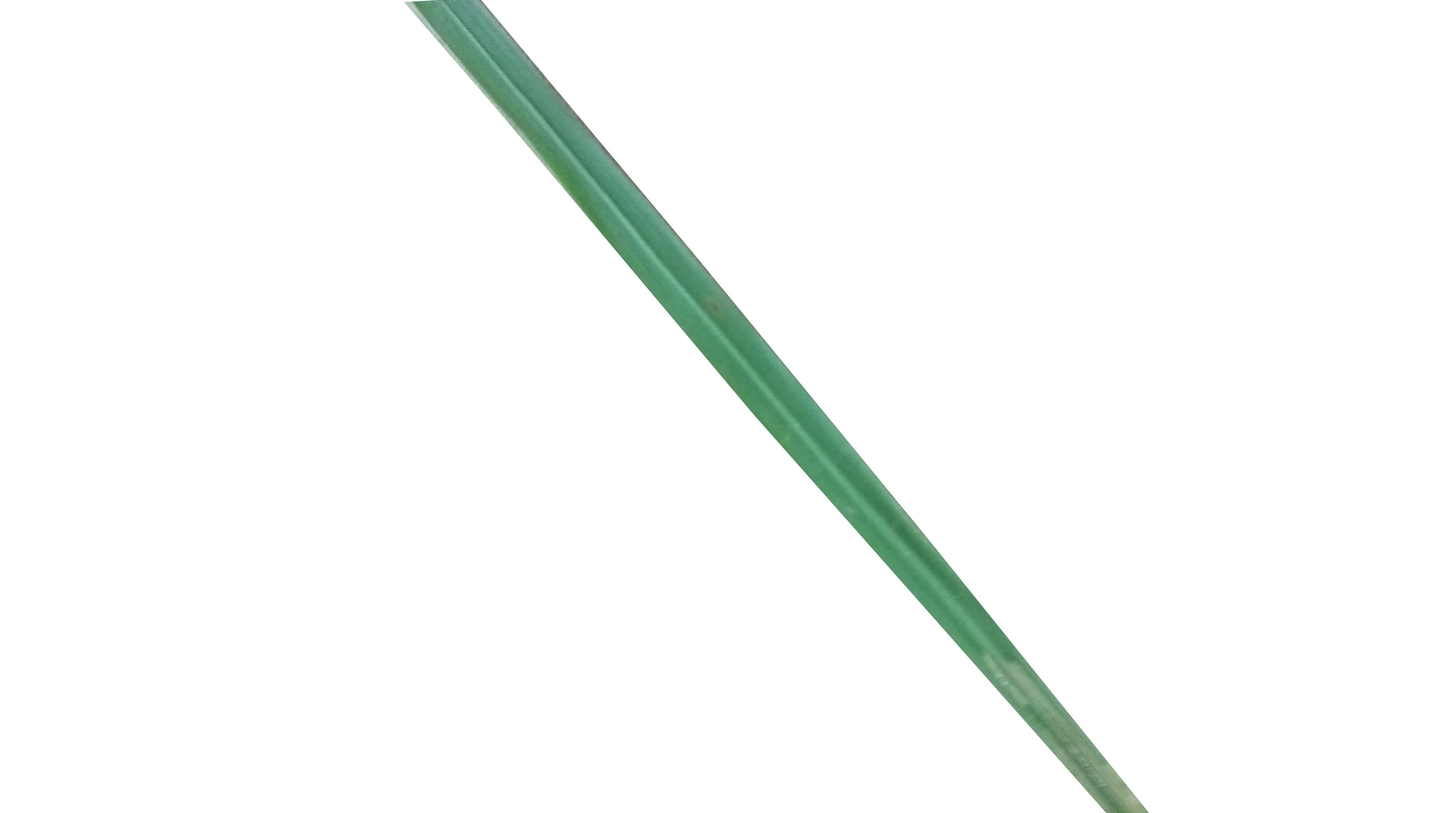Brown spot: (706, 290, 724, 323)
